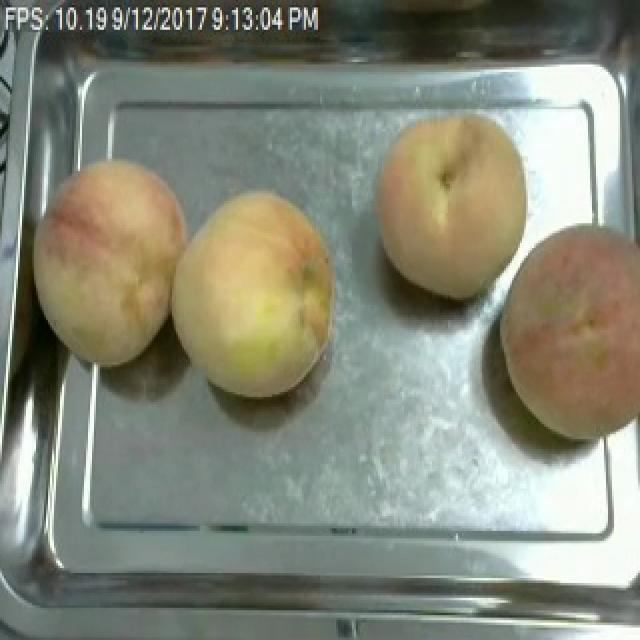Fruit: (16, 146, 200, 374), (162, 179, 346, 404), (364, 101, 542, 308), (490, 211, 640, 449)
